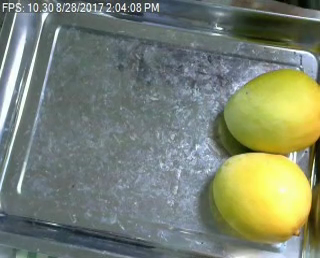Mango: (212, 149, 316, 243), (215, 65, 320, 151)
